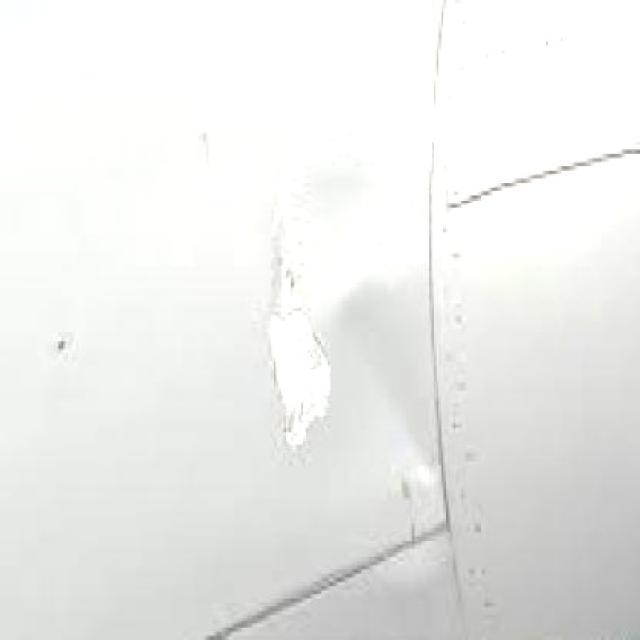dent: (257, 164, 331, 455)
